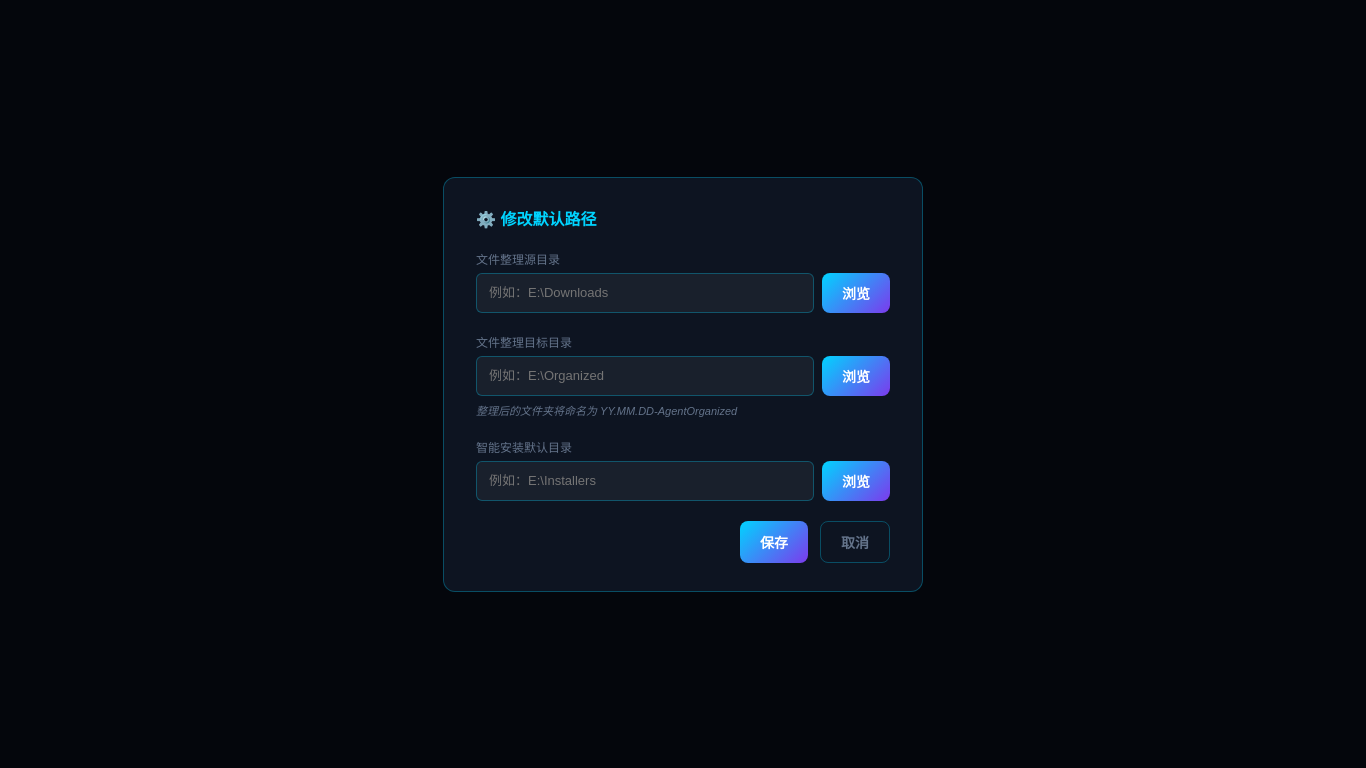
Test: SettingsDialog › shows warning when save returns backend error, does not auto-close
Click the button with class "save-btn": (774, 542) x1=740 y1=520 x2=808 y2=562
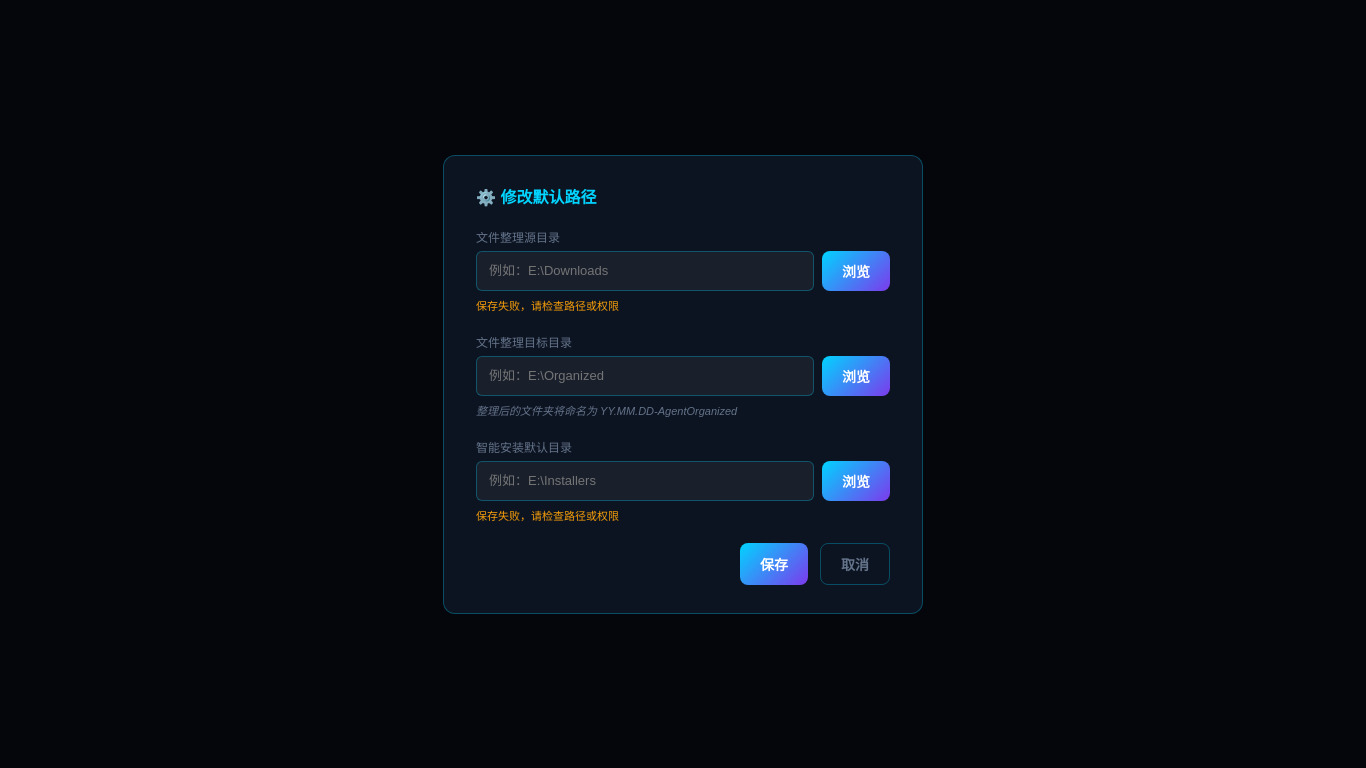
Check: the text with class "warning-text" below "文件整理源目录" is shown, box x1=476 y1=300 x2=619 y2=312
